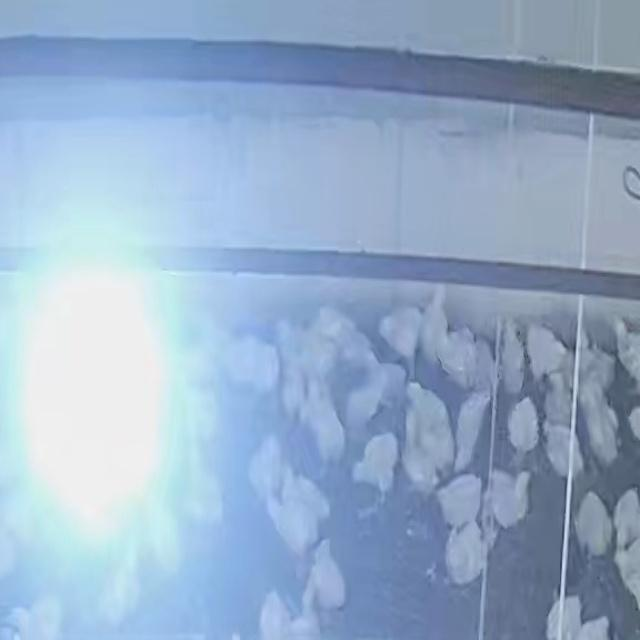chicken: (346, 363, 404, 441), (350, 431, 400, 511), (451, 392, 492, 474), (304, 384, 346, 464), (489, 464, 536, 531), (445, 523, 489, 592), (378, 301, 425, 365), (308, 539, 348, 613), (572, 487, 614, 557), (580, 392, 618, 467), (434, 472, 485, 525), (542, 421, 587, 480), (524, 323, 568, 382), (247, 437, 284, 505), (422, 282, 448, 368), (506, 395, 542, 454), (500, 318, 528, 392), (611, 488, 640, 552)
